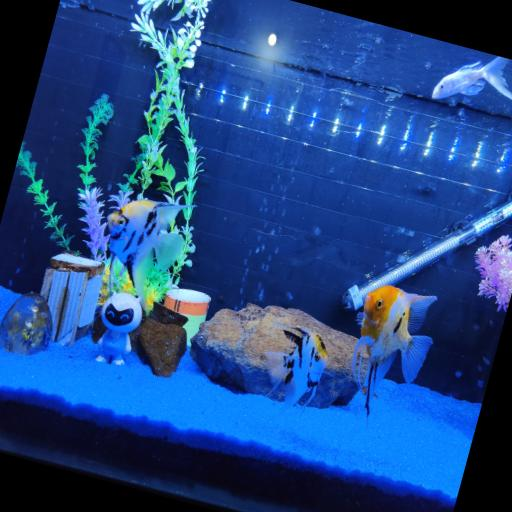Fish: (353, 286, 436, 416), (107, 200, 186, 311), (266, 325, 327, 408), (432, 56, 511, 99)
